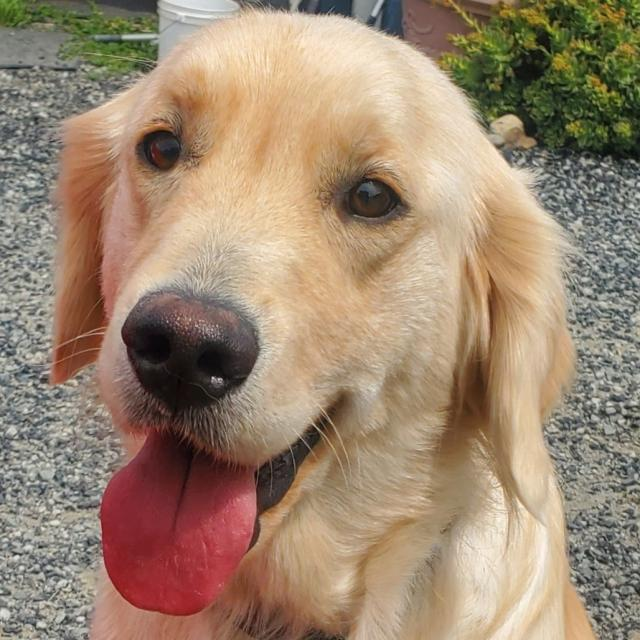golden_retriever_dog: (29, 7, 583, 625)
